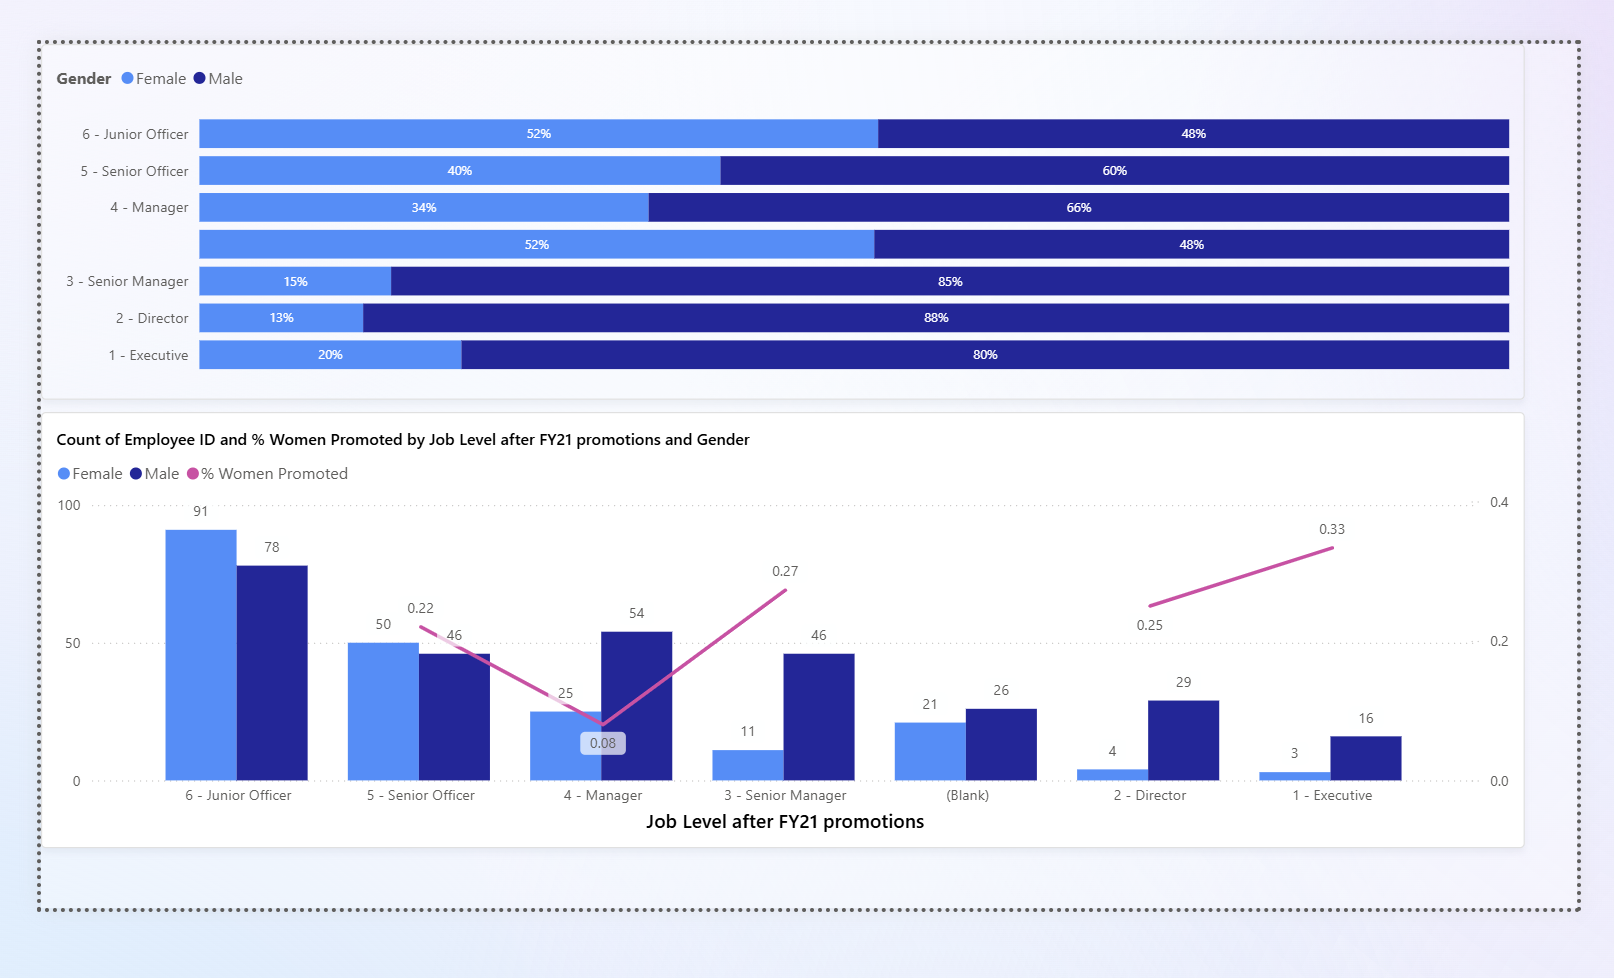

What the dashboard file says about the page in this screenshot:
{"tool":"powerbi","page":{"name":"Page 2","canvas":[1280,720],"ordinal":1},"visuals":[{"type":"hundredPercentStackedBarChart","fields":{"Category":["Pharma Group AG.Job Level before FY20 promotions"],"Y":["CountNonNull(Pharma Group AG.Employee ID)"],"Series":["Pharma Group AG.Gender"]},"box":[0,0,390.4,297],"z":0},{"type":"lineClusteredColumnComboChart","fields":{"Category":["Pharma Group AG.Job Level after FY21 promotions"],"Series":["Pharma Group AG.Gender"],"Y":["CountNonNull(Pharma Group AG.Employee ID)"],"Y2":["Pharma Group AG.% Women Promoted"]},"box":[0,307,390,297],"z":1}]}

Visuals, with their boxes on the page's 1280x720 design canvas (x1, y1, x2, y2). These are canvas units, not pixel positions in the 1614x978 screenshot, which may show the page scaled, cropped or inside an application window:
hundredPercentStackedBarChart - Pharma Group AG.Job Level before FY20 promotions x CountNonNull(Pharma Group AG.Employee ID): 0 0 390 297
lineClusteredColumnComboChart - Pharma Group AG.Job Level after FY21 promotions x Pharma Group AG.Gender: 0 307 390 604
